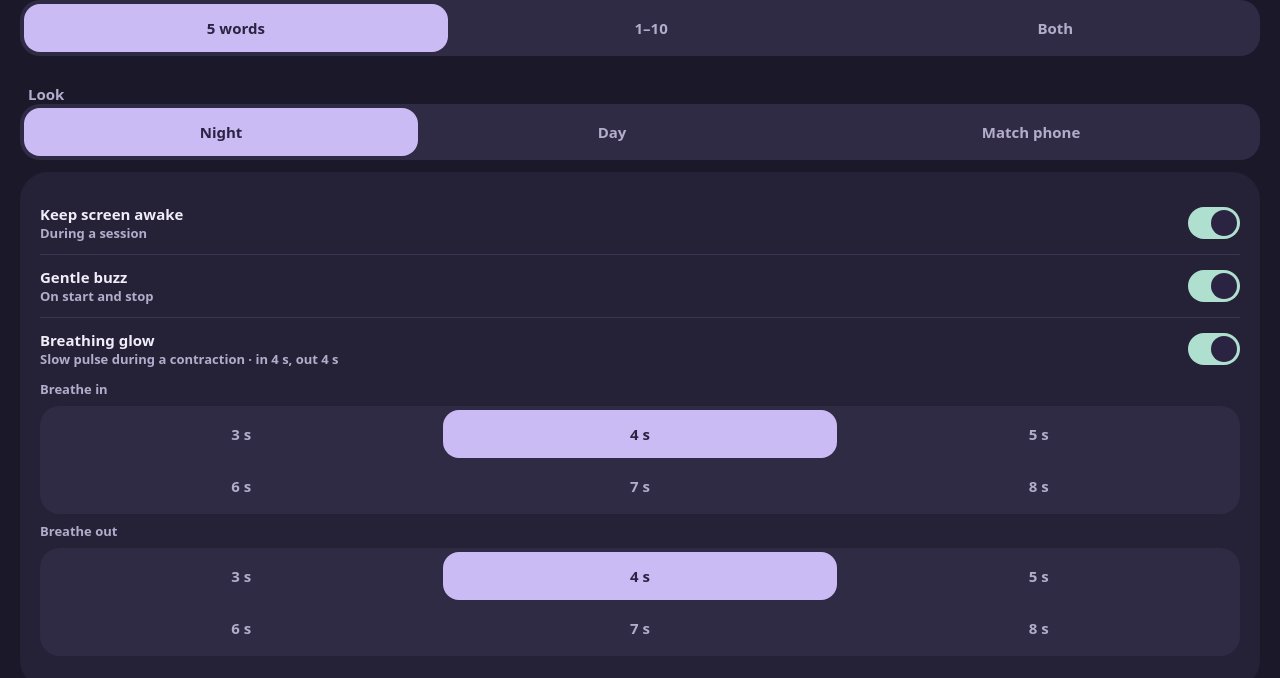
breathing glow timing › removes the pickers when the glow is switched off
This screenshot has width=1280, height=678.
(page scrolled)
Click the switch labelled "Breathing glow". click: (97, 340)
box: [40,318,1240,380]
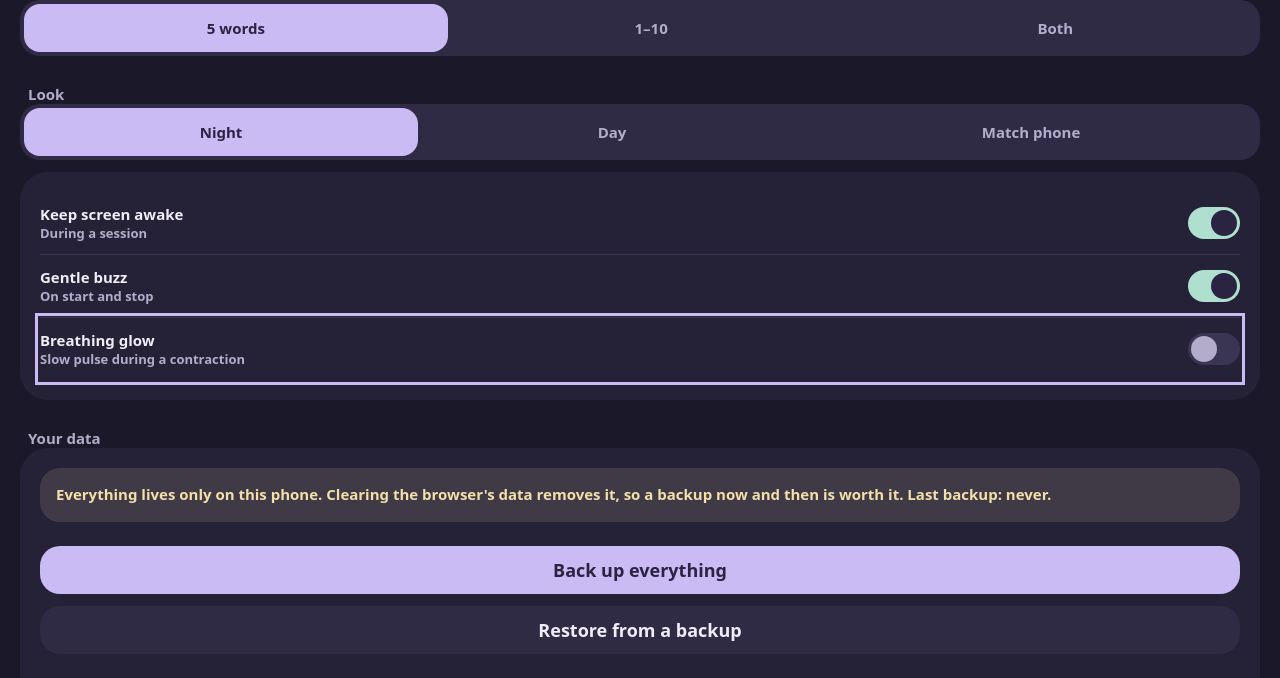
Now the text "Breathe in" is gone
Now the text "Breathe out" is gone
